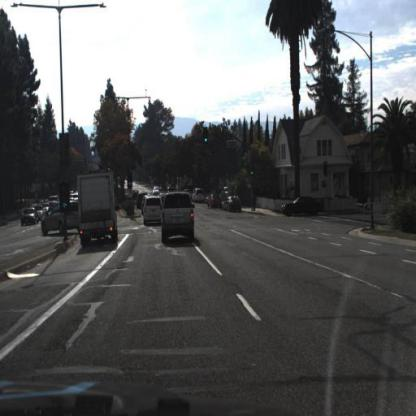car: (160, 191, 199, 249), (39, 200, 82, 236), (280, 196, 321, 219), (143, 194, 165, 230), (222, 196, 243, 215), (191, 188, 206, 206), (193, 187, 207, 205), (208, 197, 222, 210), (137, 189, 145, 210), (48, 194, 59, 208), (151, 189, 163, 198), (133, 188, 142, 198), (154, 183, 162, 194)
pedestrian: (250, 185, 258, 213)
trafficLight-Green: (203, 127, 210, 147), (203, 127, 210, 146), (251, 164, 256, 178)
trafficLight-GreenLeft: (59, 183, 71, 214), (128, 173, 133, 191)
trafficLight-RedLeft: (127, 172, 135, 192)
truck: (73, 169, 116, 246)
